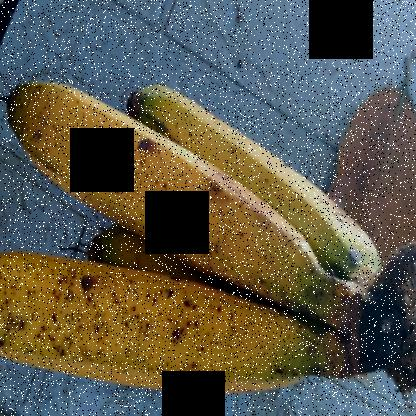ripe: (6, 70, 333, 330), (3, 249, 354, 415)
